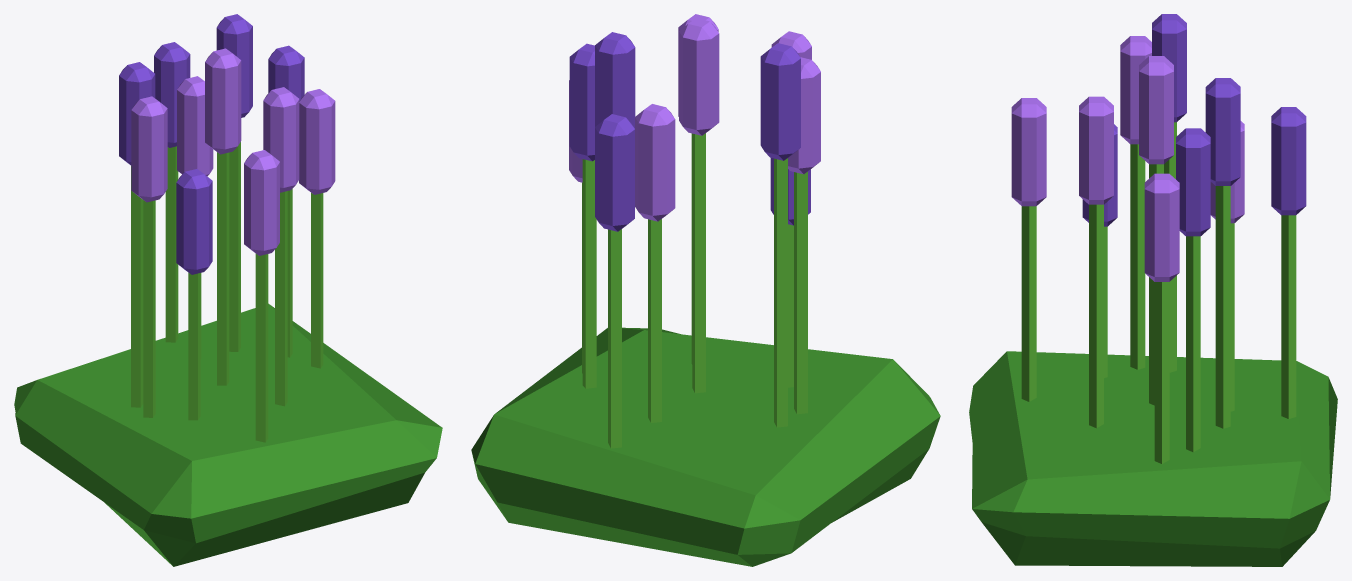
The model's file is Lavender.fbx.
3 renders of one model, left to right at view 1: azimuth 30°, elevation 25°; view 2: azimuth 150°, elevation 25°; view 3: azimuth 270°, elevation 25°, orthographic. The views are drawn at different scales.
Visible parts, largest first — view 1: Lavender; view 2: Lavender; view 3: Lavender.
Boxes of the visible parts, x1=… form: Lavender: x1=14, y1=14, x2=442, y2=566; Lavender: x1=471, y1=14, x2=940, y2=566; Lavender: x1=969, y1=14, x2=1337, y2=566.
Size of the model in its own units: 1.44 by 2 by 1.48.
Materials: 1 (1 with a texture image).
